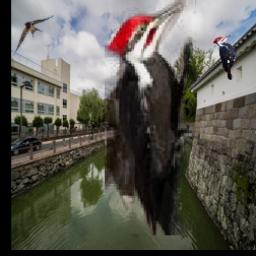Swallow: (12, 15, 54, 56)
Woodpecker: (105, 1, 200, 236), (213, 34, 240, 80)
